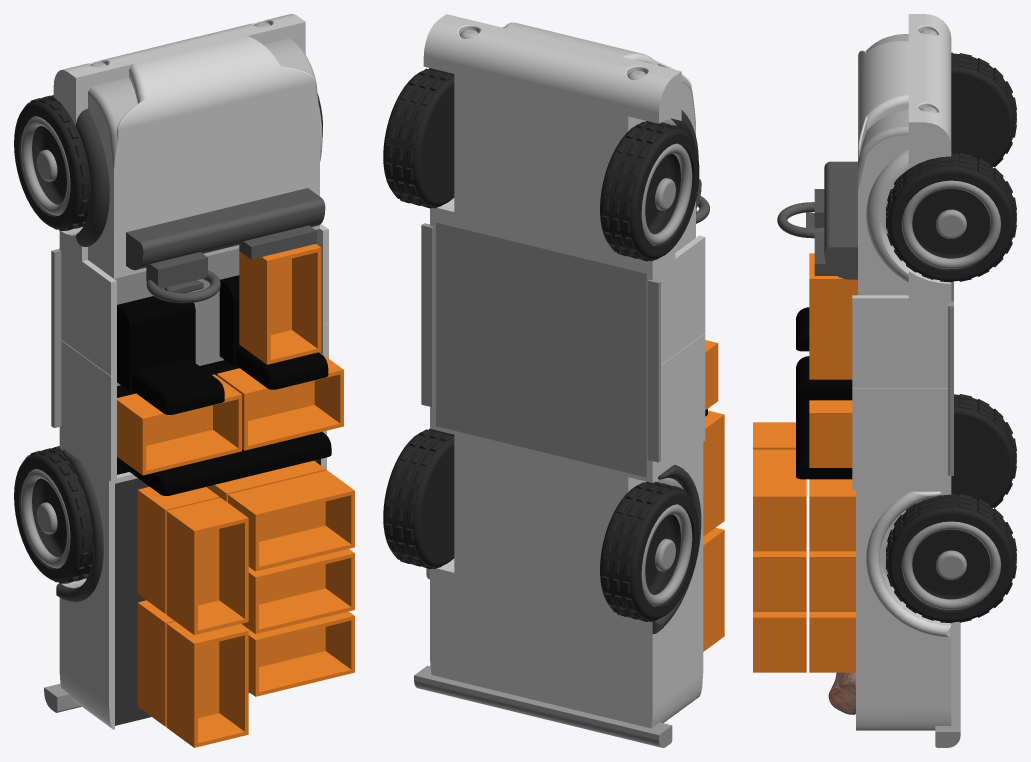
Rendered from dino_log.obj.
3 renders of one model, left to right at view 1: azimuth 30°, elevation 25°; view 2: azimuth 150°, elevation 25°; view 3: azimuth 270°, elevation 25°, orthographic. The views are drawn at different scales.
Parts seen in each view (by area): view 1: bonnet, bed, Body1, crate_bed_7, crate_bed_3, crate_bed_9, crate_copilot, crate_backseat_left, dashboard, crate_bed_5, crate_bed_1, crate_backseat_right (+22 smaller); view 2: bed, Body1:5, bonnet, Body1, Body1:2, Body1:1, Body1:3, Body1:4, bumper, Body1:8, crate_bed_3, crate_bed_7 (+6 smaller); view 3: Body2, bonnet, bed, Body1:4, Body1:3, Body1:1, Body1:2, crate_bed_9, crate_copilot, dashboard, crate_bed_10, crate_bed_5 (+19 smaller).
Boxes of the visible parts, box(x1,y1,x2,y2) form: bonnet: box(53, 14, 319, 278); bed: box(59, 430, 326, 729); Body1: box(59, 245, 116, 481); crate_bed_7: box(166, 498, 248, 634); crate_bed_3: box(166, 621, 248, 747); crate_bed_9: box(228, 470, 354, 571); crate_copilot: box(239, 244, 321, 364); crate_backseat_left: box(117, 374, 241, 475); dashboard: box(126, 188, 325, 270); crate_bed_5: box(241, 549, 354, 634); crate_bed_1: box(240, 611, 354, 696); crate_backseat_right: box(217, 352, 343, 450); bed: box(430, 425, 703, 728); Body1:5: box(436, 222, 646, 477); bonnet: box(423, 14, 695, 275); Body1: box(646, 235, 705, 478); Body1:2: box(600, 481, 699, 621); Body1:1: box(600, 121, 699, 261); Body1:3: box(383, 68, 454, 208); Body1:4: box(383, 428, 454, 568); bumper: box(414, 665, 672, 747); Body1:8: box(647, 279, 660, 462); crate_bed_3: box(703, 527, 724, 651); crate_bed_7: box(703, 410, 724, 536); Body2: box(852, 295, 951, 490); bonnet: box(858, 14, 951, 298); bed: box(856, 490, 951, 730); Body1:4: box(886, 493, 1016, 623); Body1:3: box(886, 152, 1016, 282); Body1:1: box(951, 52, 1016, 167); Body1:2: box(951, 394, 1016, 508); crate_bed_9: box(753, 449, 806, 551); crate_copilot: box(809, 253, 857, 379); dashboard: box(824, 161, 857, 279); crate_bed_10: box(809, 479, 855, 551); crate_bed_5: box(753, 551, 806, 611).
Size of the model in its own units: 2.09 by 5.15 by 1.97.
10 materials, 1 textured.
